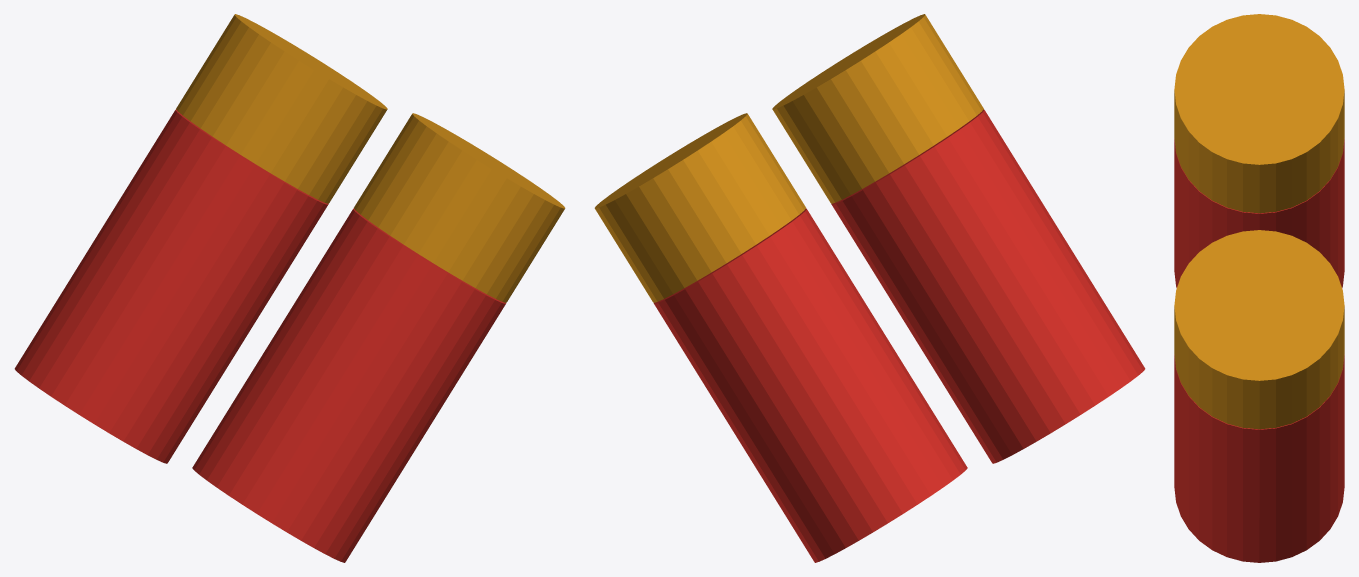
Rendered from ShotgunAmmo.fbx.
3 renders of one model, left to right at view 1: azimuth 30°, elevation 25°; view 2: azimuth 150°, elevation 25°; view 3: azimuth 270°, elevation 25°, orthographic. The views are drawn at different scales.
Parts seen in each view (by area): view 1: Cylinder.003, Cylinder, Cylinder.002, Cylinder.001; view 2: Cylinder.003, Cylinder, Cylinder.002, Cylinder.001; view 3: Cylinder.002, Cylinder.001, Cylinder, Cylinder.003.
Part boxes in pixels (<box>): Cylinder.003: <box>14,109,328,463</box>; Cylinder: <box>192,208,506,562</box>; Cylinder.002: <box>176,14,387,203</box>; Cylinder.001: <box>354,113,565,302</box>; Cylinder.003: <box>831,109,1145,463</box>; Cylinder: <box>653,208,967,562</box>; Cylinder.002: <box>772,14,983,203</box>; Cylinder.001: <box>594,113,805,302</box>; Cylinder.002: <box>1174,14,1344,213</box>; Cylinder.001: <box>1174,230,1344,429</box>; Cylinder: <box>1174,355,1344,562</box>; Cylinder.003: <box>1174,139,1344,287</box>.
Size of the model in its own units: 452 by 449 by 135.
